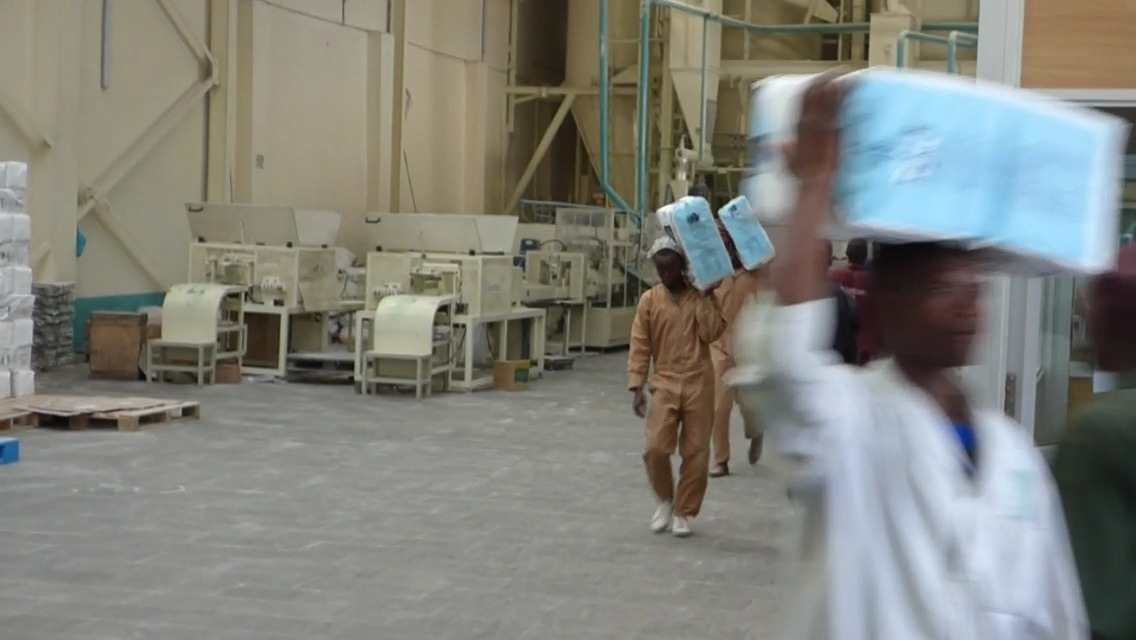wheat_flour_blue_label: (743, 65, 1127, 273), (659, 197, 736, 289)
